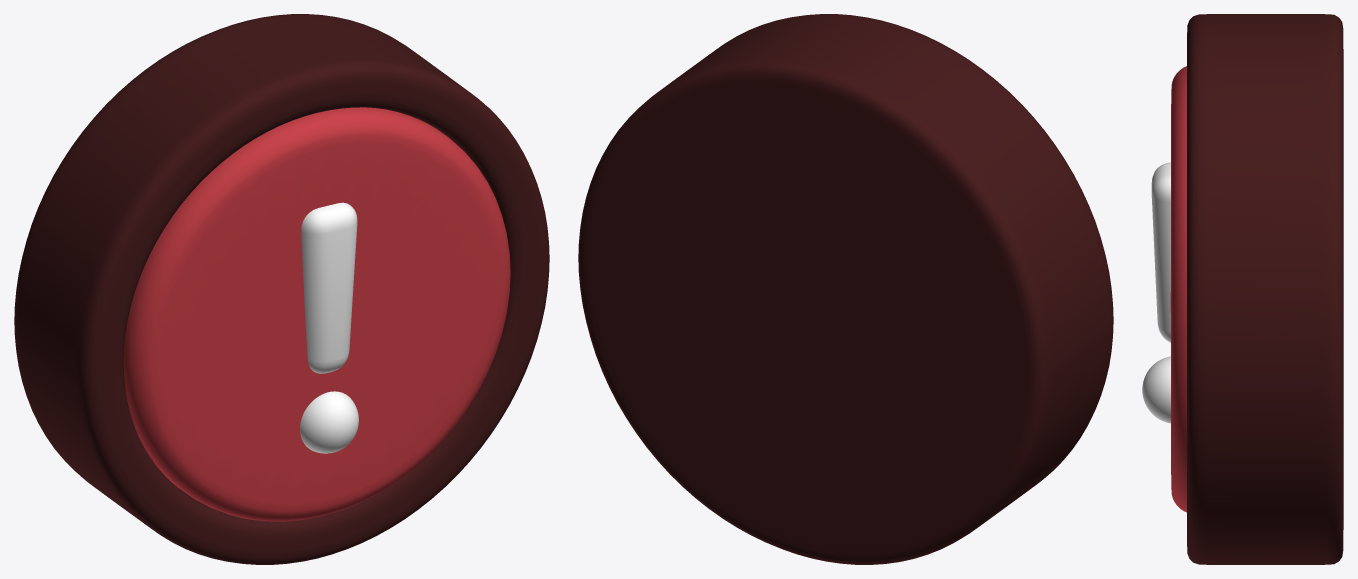
The model's file is warning-animated-3d-icon-592655884761.glb.
The picture shows the model from 3 angles, left to right: view 1: azimuth 30°, elevation 25°; view 2: azimuth 150°, elevation 25°; view 3: azimuth 270°, elevation 25°; orthographic projection.
Visible parts, largest first — view 1: Circle.002, Base .002, Warning Sign; view 2: Base .002; view 3: Base .002, Circle.002, Warning Sign.
Part boxes in pixels (x1=…): Circle.002: x1=123, y1=107, x2=510, y2=521; Base .002: x1=14, y1=14, x2=549, y2=564; Warning Sign: x1=300, y1=202, x2=358, y2=453; Base .002: x1=578, y1=14, x2=1113, y2=564; Base .002: x1=1187, y1=14, x2=1343, y2=564; Circle.002: x1=1170, y1=66, x2=1186, y2=512; Warning Sign: x1=1142, y1=162, x2=1170, y2=423.
Size of the model in its own units: 1.99 by 1.99 by 0.7258.
